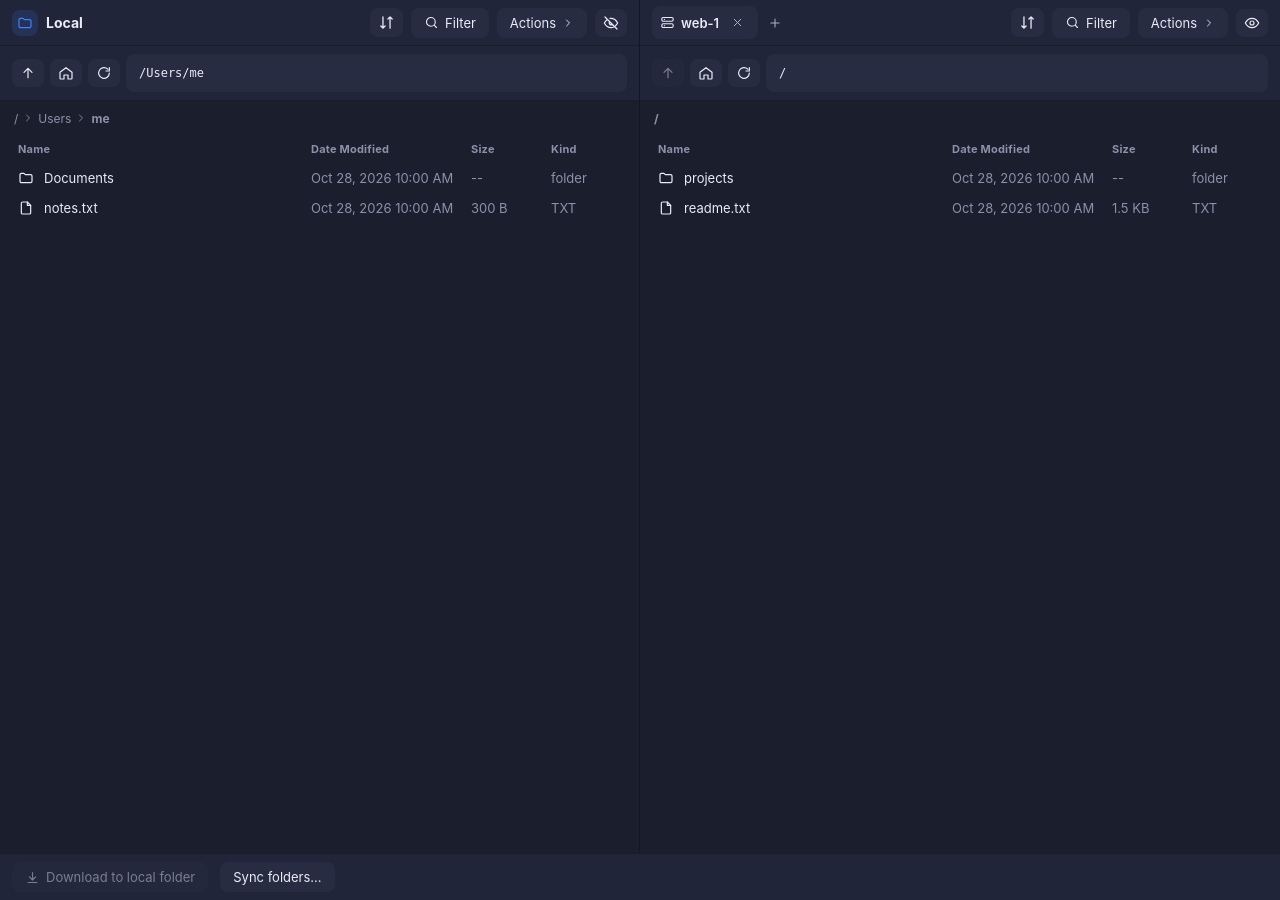
Test: SftpBrowser: moving files and folders between the panes › Upload sends the selected file to the remote folder and shows what happened
Click the 1st button "Actions": (542, 22) [497,8,587,38]
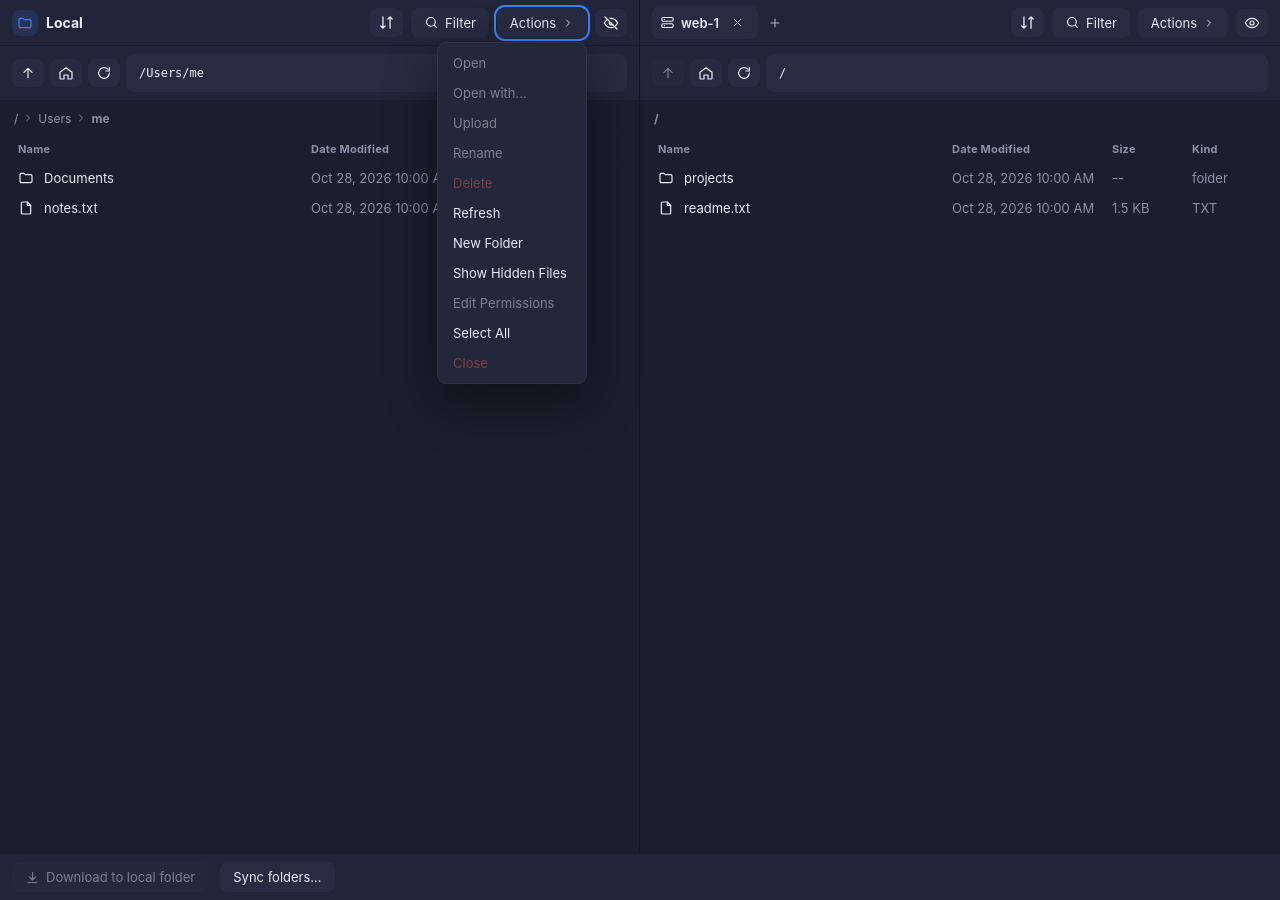
Now the menu item "Upload" is disabled, box [443,108,581,138]
Press Escape
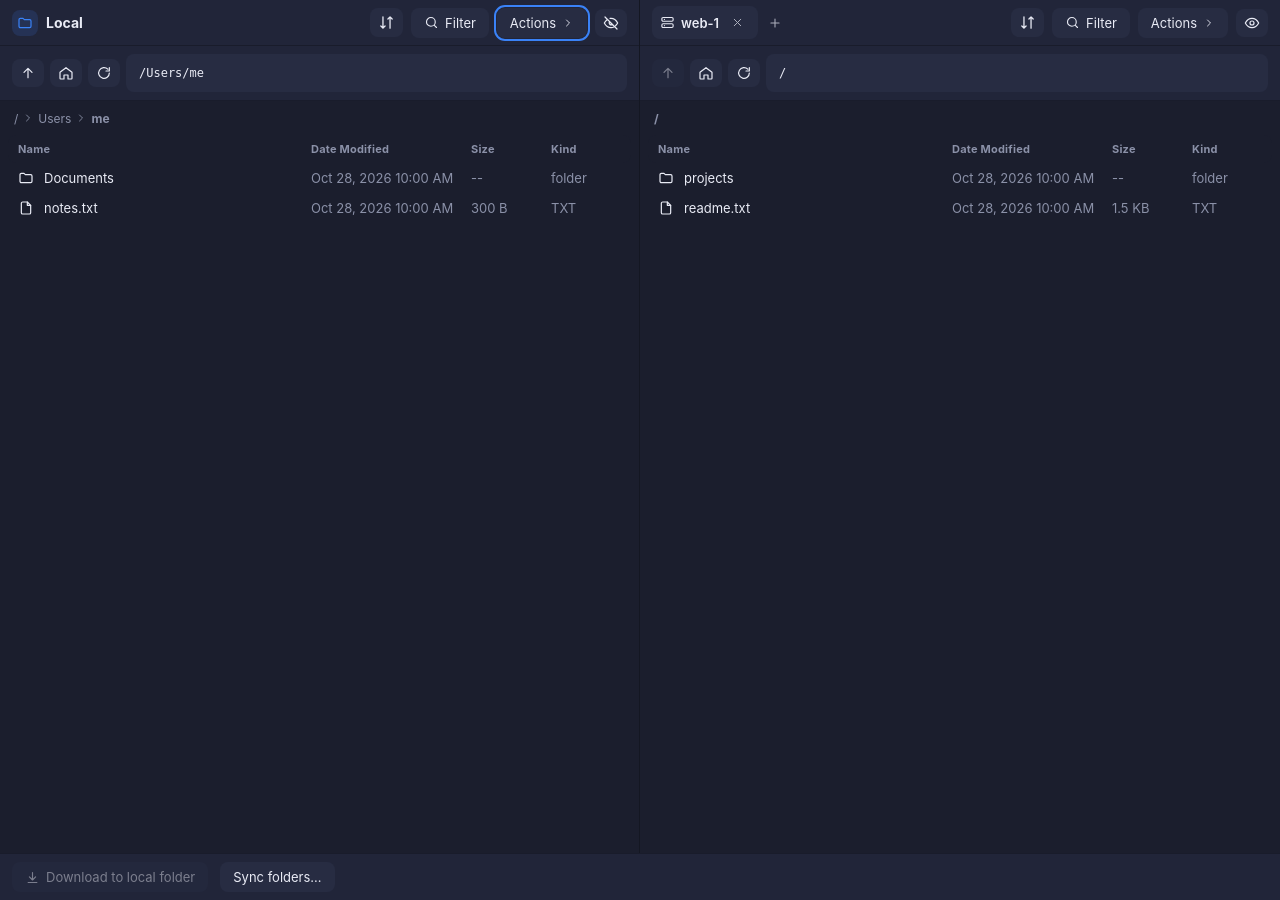
Click the row "notes.txt Oct 28, 2026 10:00 AM 300 B TXT": (71, 208) [18,200,576,216]
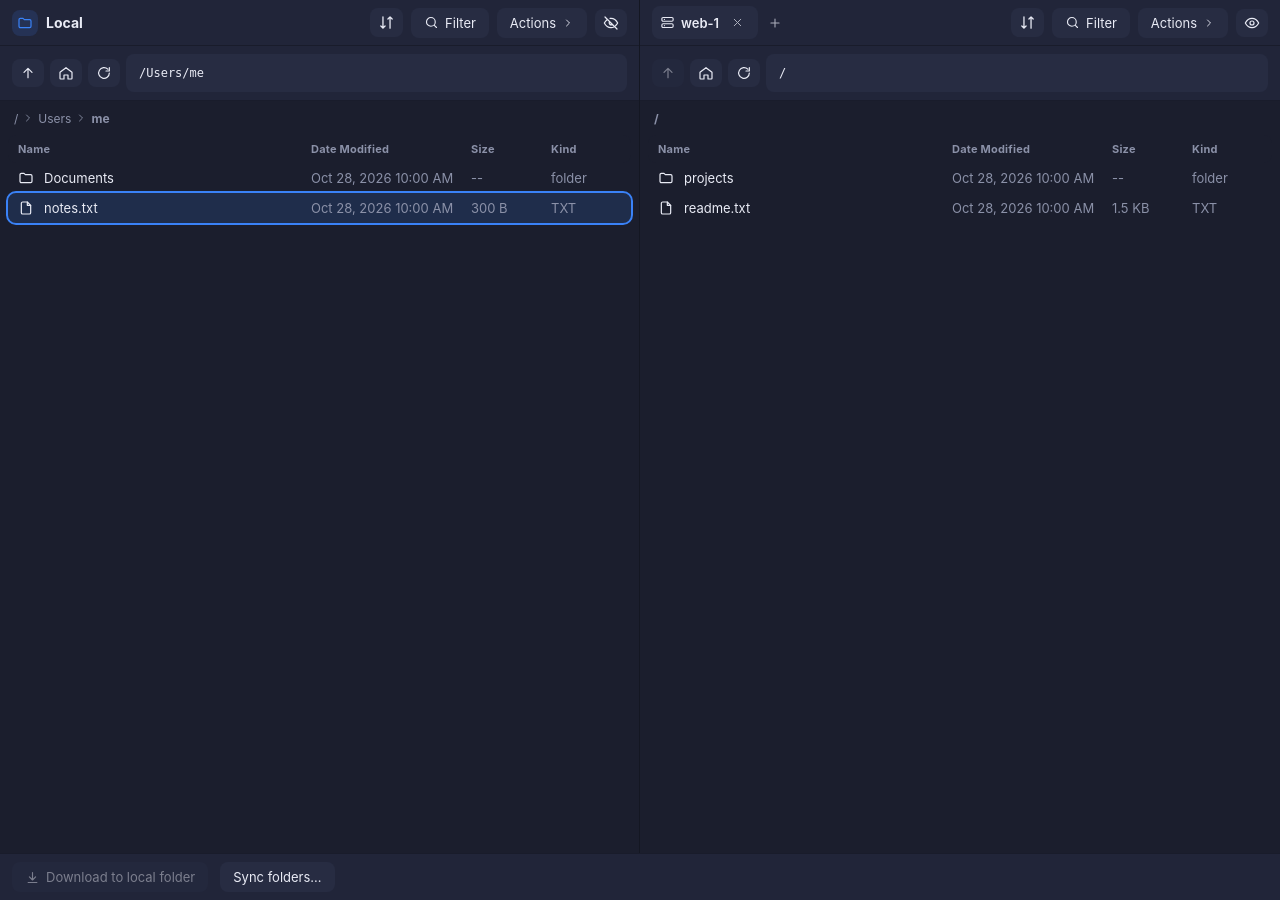
Click the 1st button "Actions": (542, 22) [497,8,587,38]
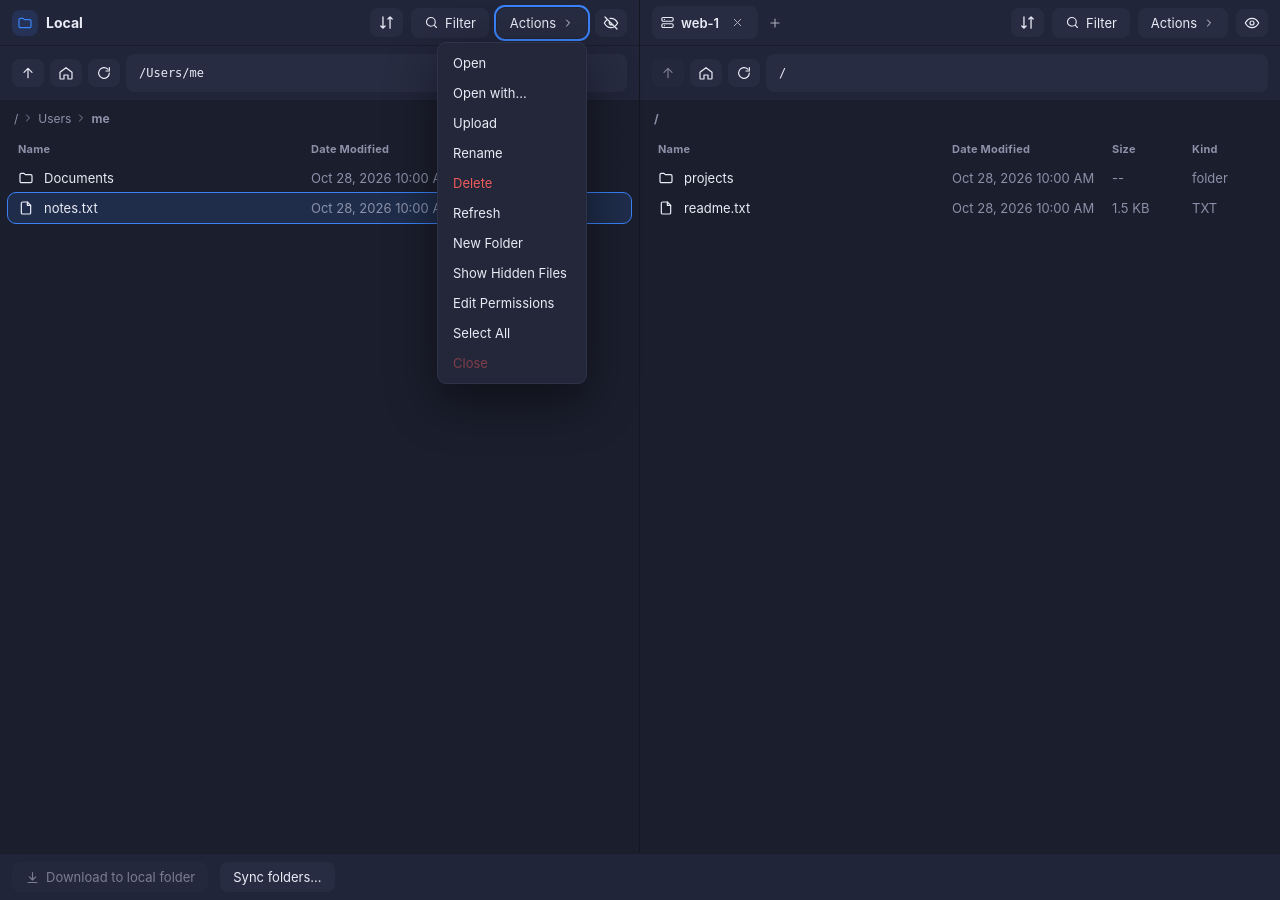
Click the menu item "Upload": (512, 122) [443,108,581,138]
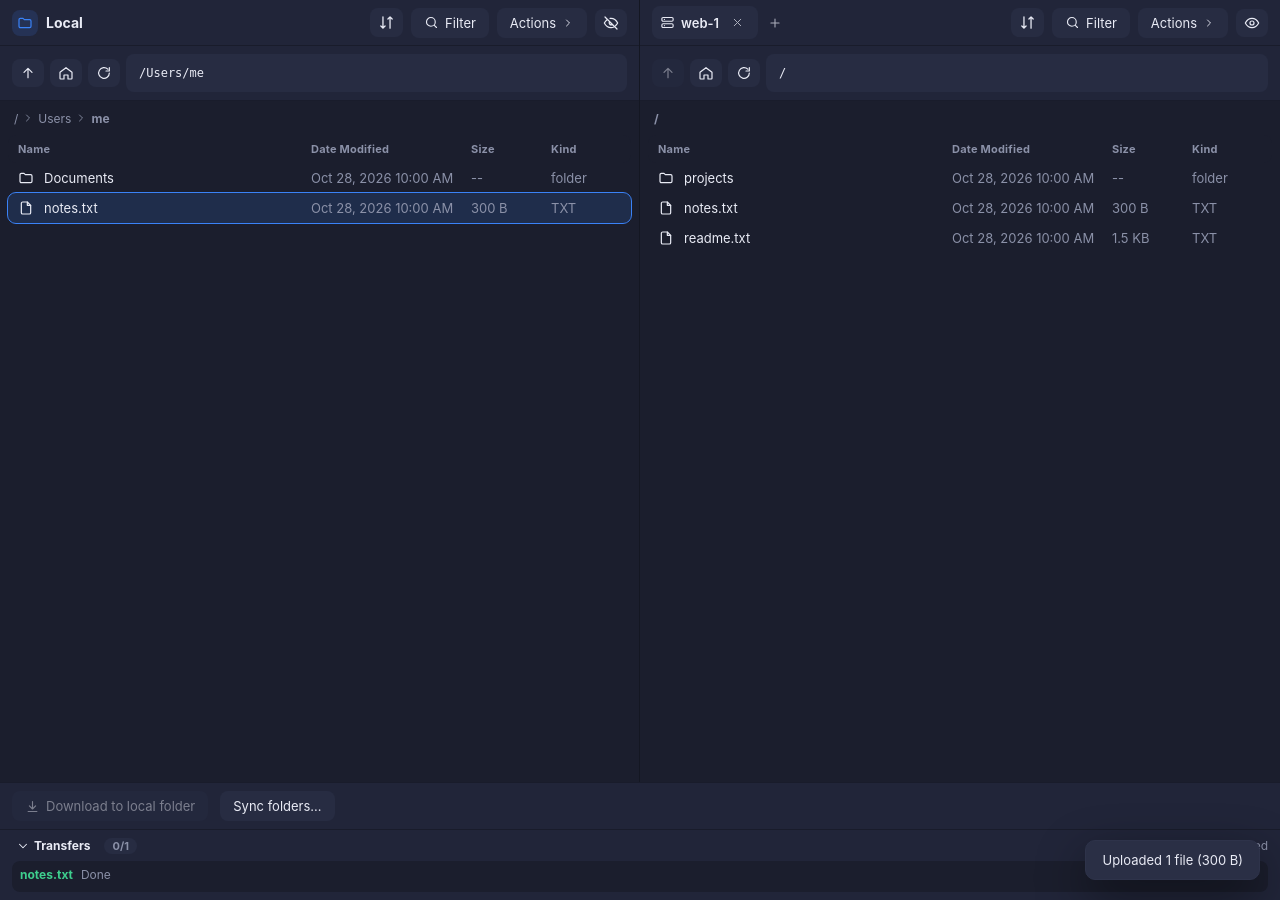
Now the list item "notes.txt" shows "Done", box [81,867,111,882]
